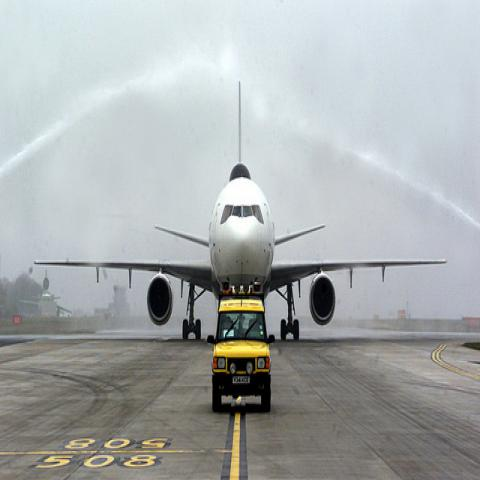truck: (211, 287, 274, 411)
